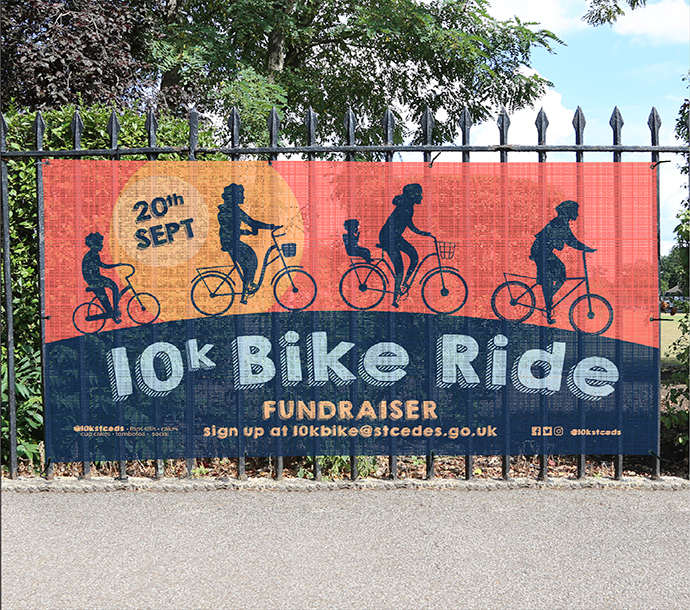vinyl banner: (19, 137, 664, 462)
